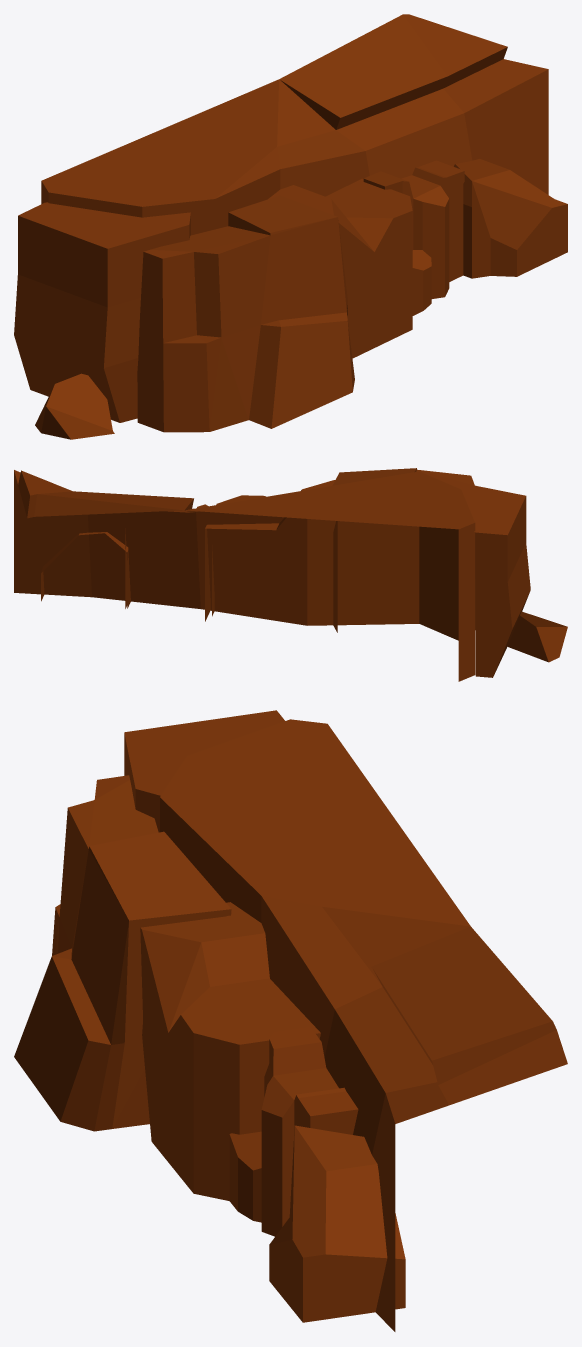
The model's file is Rock_1.fbx.
3 renders of one model, top to bottom at view 1: azimuth 30°, elevation 25°; view 2: azimuth 150°, elevation 25°; view 3: azimuth 270°, elevation 25°, orthographic. The views are drawn at different scales.
Parts seen in each view (by area): view 1: Cube.007; view 2: Cube.007; view 3: Cube.007.
Part boxes in pixels (bbox=[...]): Cube.007: bbox=[14, 14, 567, 439]; Cube.007: bbox=[14, 468, 567, 681]; Cube.007: bbox=[14, 710, 567, 1331].
Size of the model in its own units: 3989 by 1217 by 2368.
